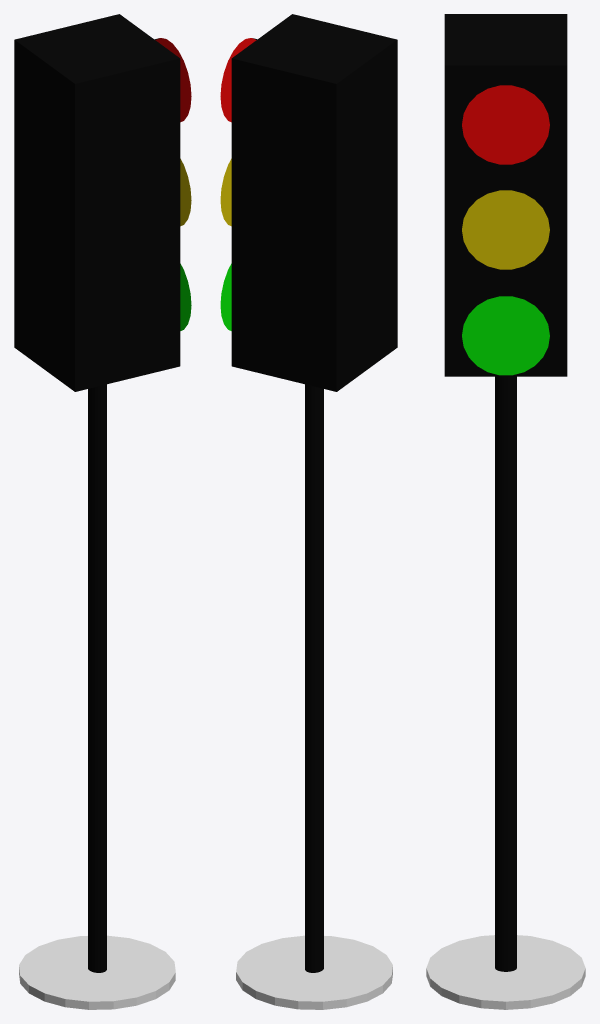
File: trafficLight.fbx
3 views of the same model, side by side, from view 1: azimuth 30°, elevation 25°; view 2: azimuth 150°, elevation 25°; view 3: azimuth 270°, elevation 25° (orthographic).
Parts seen in each view (by area): view 1: Cube, Cylinder.003, Cylinder; view 2: Cube, Cylinder.003, Cylinder; view 3: Cube, Cylinder.003, Cylinder.
Boxes of the visible parts, x1=… form: Cube: x1=14, y1=14, x2=191, y2=391; Cylinder.003: x1=88, y1=384, x2=106, y2=972; Cylinder: x1=19, y1=935, x2=175, y2=1009; Cube: x1=220, y1=14, x2=397, y2=391; Cylinder.003: x1=305, y1=384, x2=323, y2=972; Cylinder: x1=236, y1=935, x2=392, y2=1009; Cube: x1=444, y1=14, x2=567, y2=376; Cylinder.003: x1=495, y1=376, x2=516, y2=971; Cylinder: x1=426, y1=935, x2=585, y2=1009.
Size of the model in its own units: 268 by 1698 by 260.
